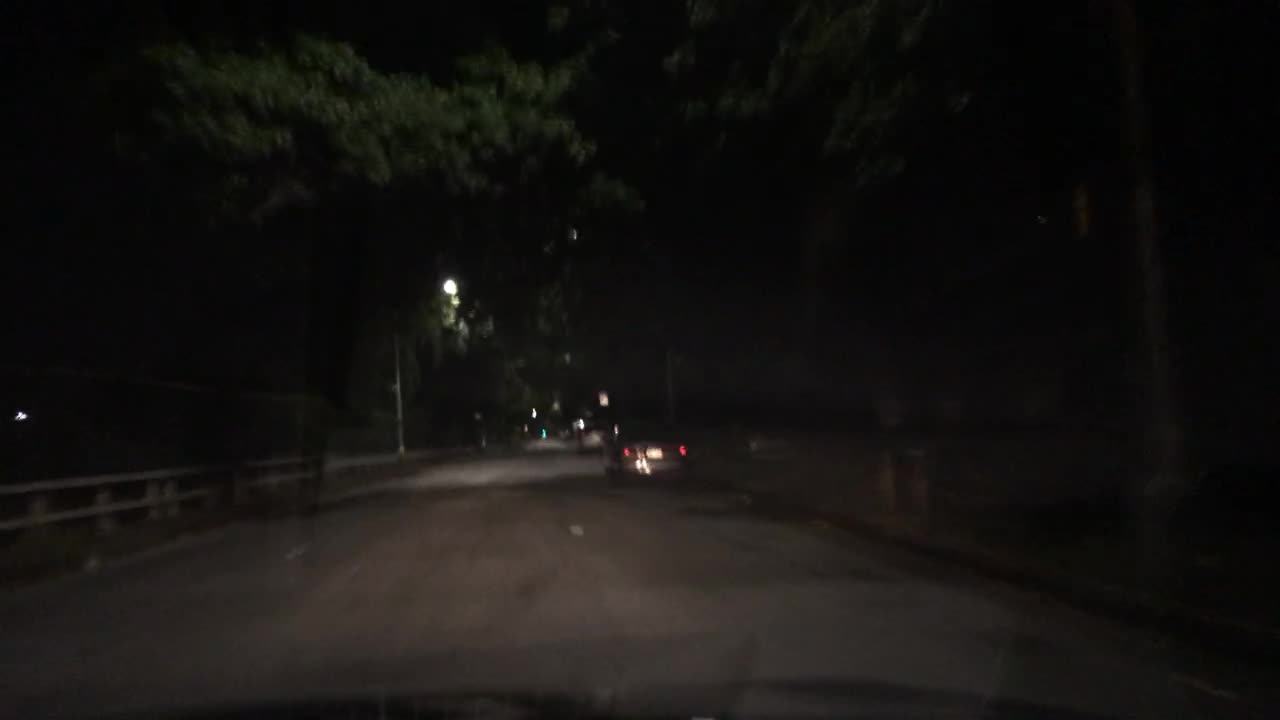car: (600, 416, 688, 482), (571, 416, 619, 453), (523, 417, 556, 437), (556, 422, 573, 440)
traffic sign: (595, 390, 607, 408)
